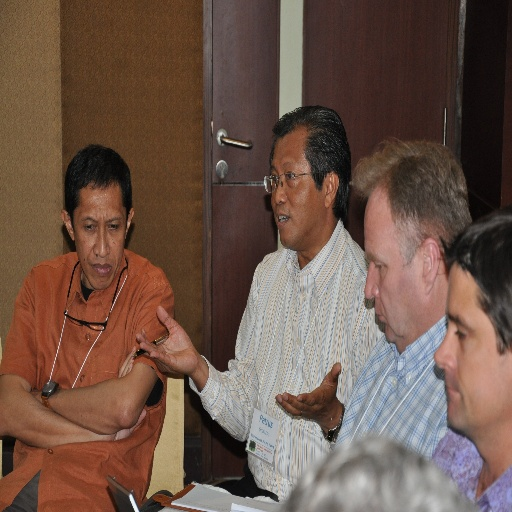hand: (280, 364, 356, 442), (135, 307, 201, 379), (105, 350, 147, 441)
